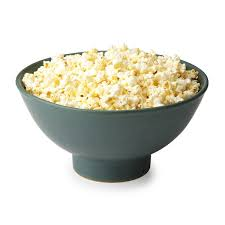popcorn: (10, 39, 213, 185)
